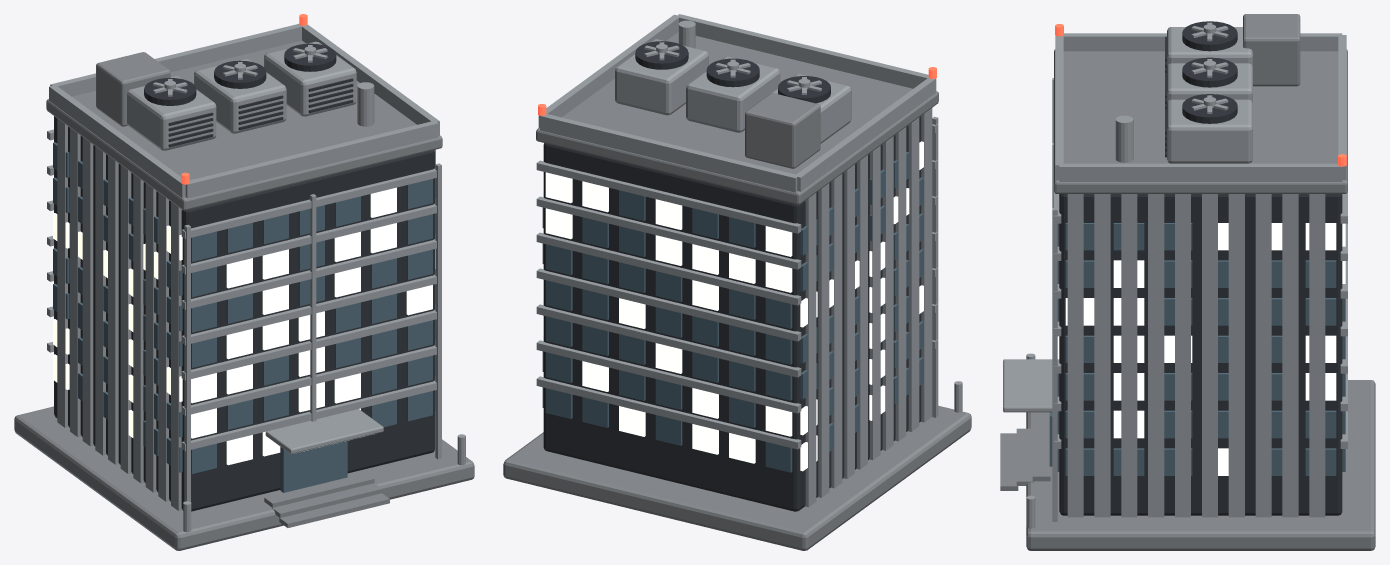
The model's file is datacenter.glb.
3 renders of one model, left to right at view 1: azimuth 30°, elevation 25°; view 2: azimuth 150°, elevation 25°; view 3: azimuth 270°, elevation 25°, orthographic. The views are drawn at different scales.
Parts seen in each view (by area): view 1: ZDC_datacenter; view 2: ZDC_datacenter; view 3: ZDC_datacenter.
Boxes of the visible parts, x1,y1,x2,y2 form: ZDC_datacenter: (14,14,474,550); ZDC_datacenter: (503,14,971,550); ZDC_datacenter: (1000,14,1375,550).
Size of the model in its own units: 2.05 by 2.54 by 2.1.
